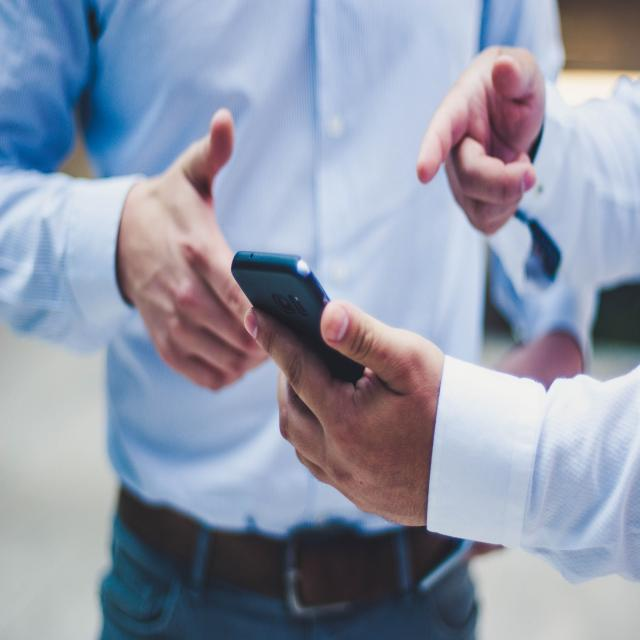phone: (232, 246, 372, 396)
